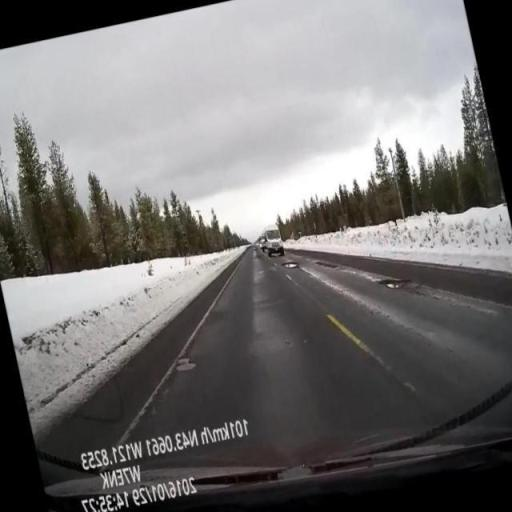pothole: (200, 142, 512, 426), (148, 132, 442, 394)
